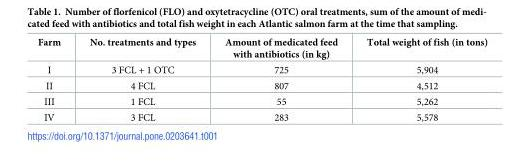table: (36, 37, 487, 122)
table column: (209, 37, 351, 122), (351, 37, 487, 122), (74, 37, 209, 122), (36, 37, 74, 122)
table column header: (36, 37, 487, 61)
table row: (36, 37, 487, 61), (36, 61, 487, 77), (36, 77, 487, 93), (36, 93, 487, 109), (36, 109, 487, 122)
